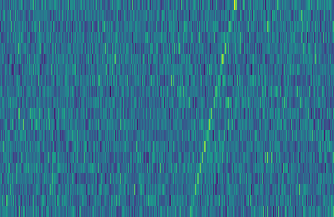signal: (186, 0, 242, 217)
